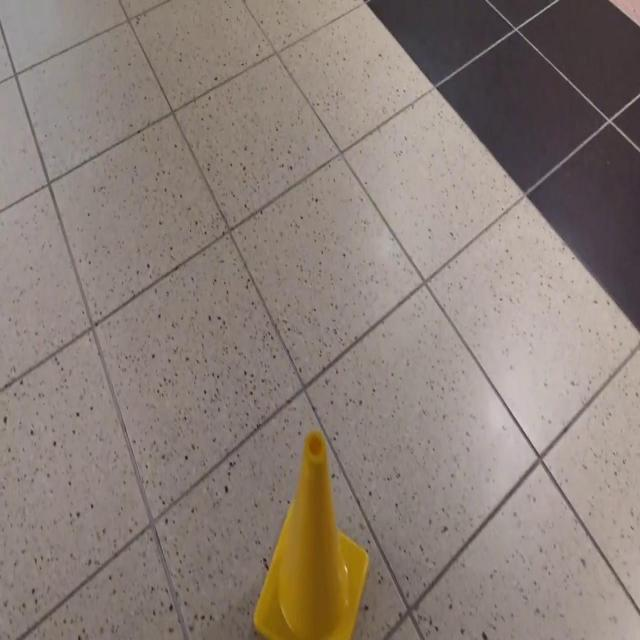frc_cone: (252, 424, 370, 640)
